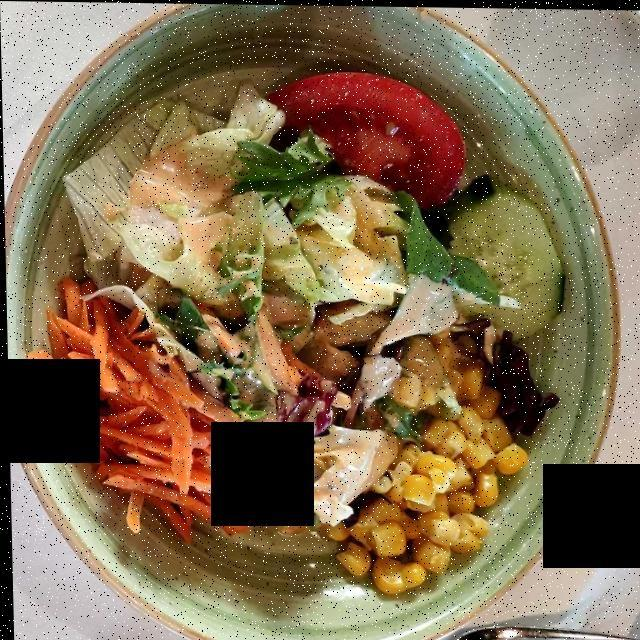carrot: (21, 285, 273, 533)
corn: (318, 330, 523, 575)
cucumber: (426, 181, 564, 334)
salad: (63, 63, 496, 504), (90, 156, 386, 414)
tomato: (277, 69, 475, 201)
